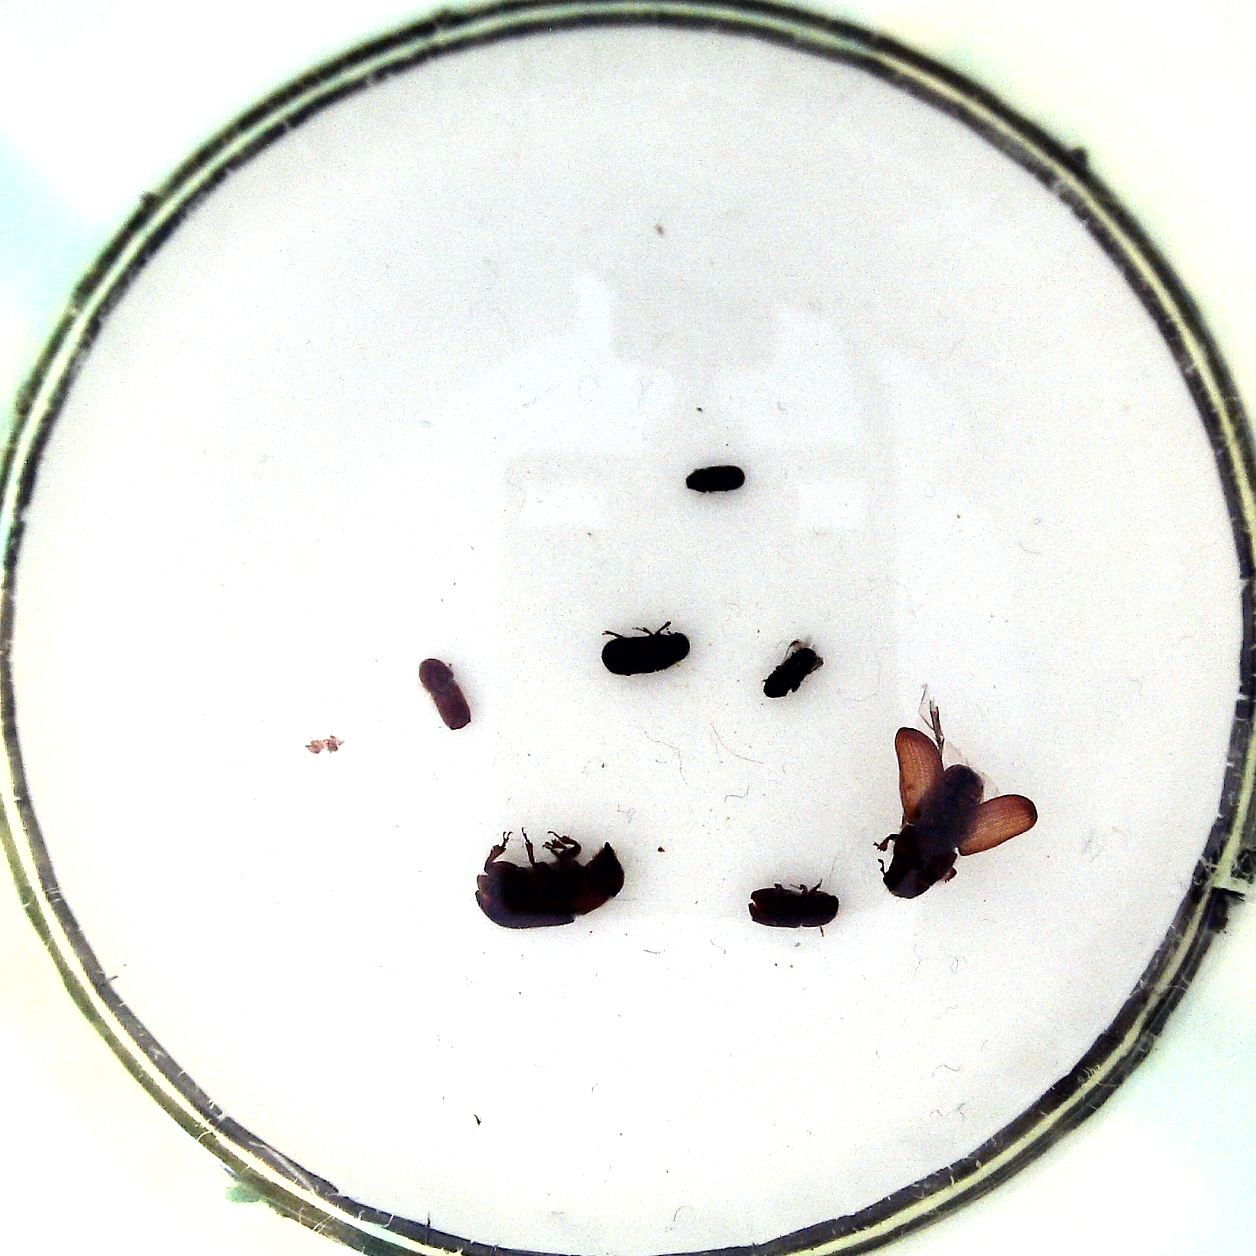Leconte: (874, 690, 1037, 903), (467, 824, 628, 932)
Linnaeus: (743, 875, 841, 939)
acuminatus: (415, 658, 477, 740)
armandi: (590, 616, 702, 680)
coleoptera: (761, 634, 828, 704), (682, 457, 746, 498)
